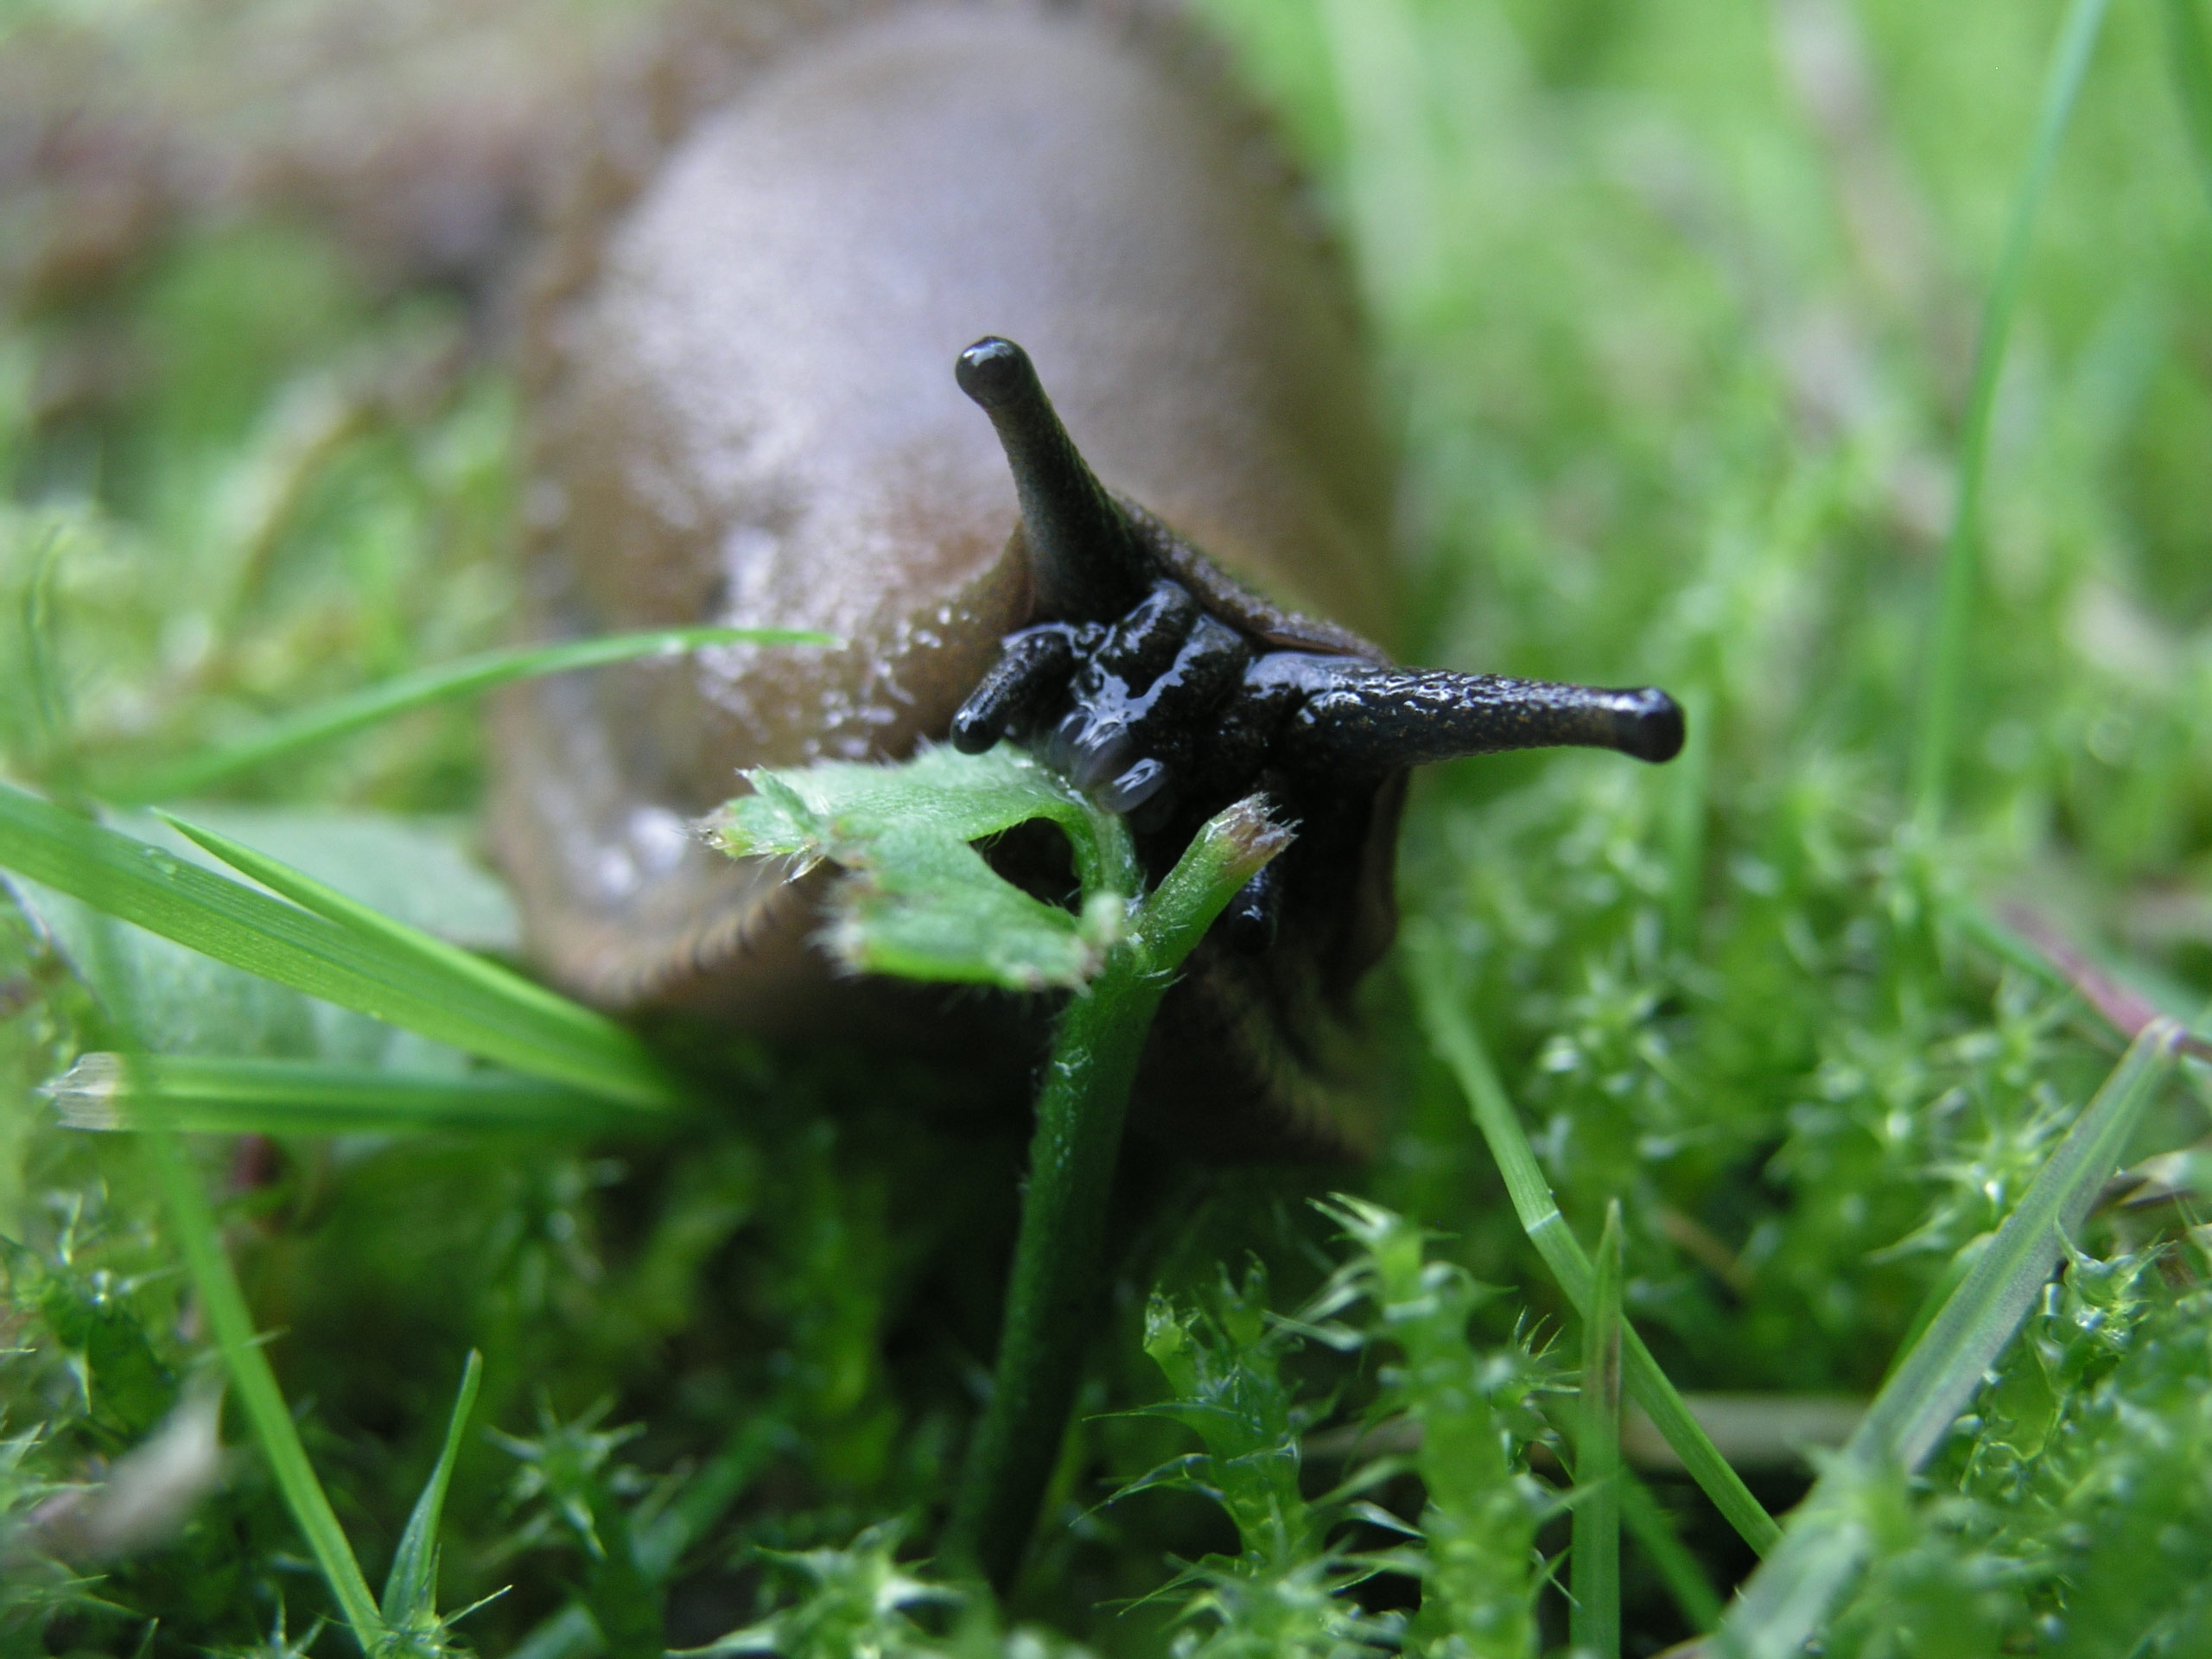slug: (427, 73, 1639, 1105)
